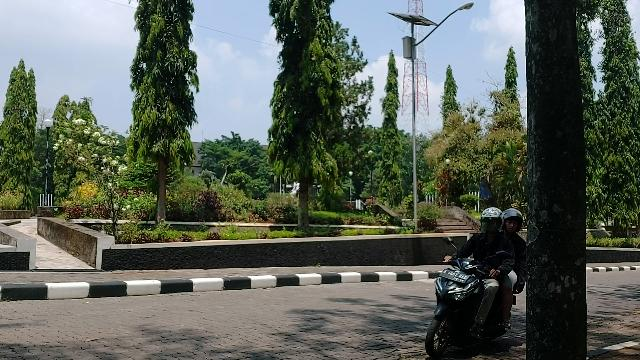helm: (482, 209, 504, 232), (504, 209, 524, 233)
motor: (426, 258, 516, 359)
